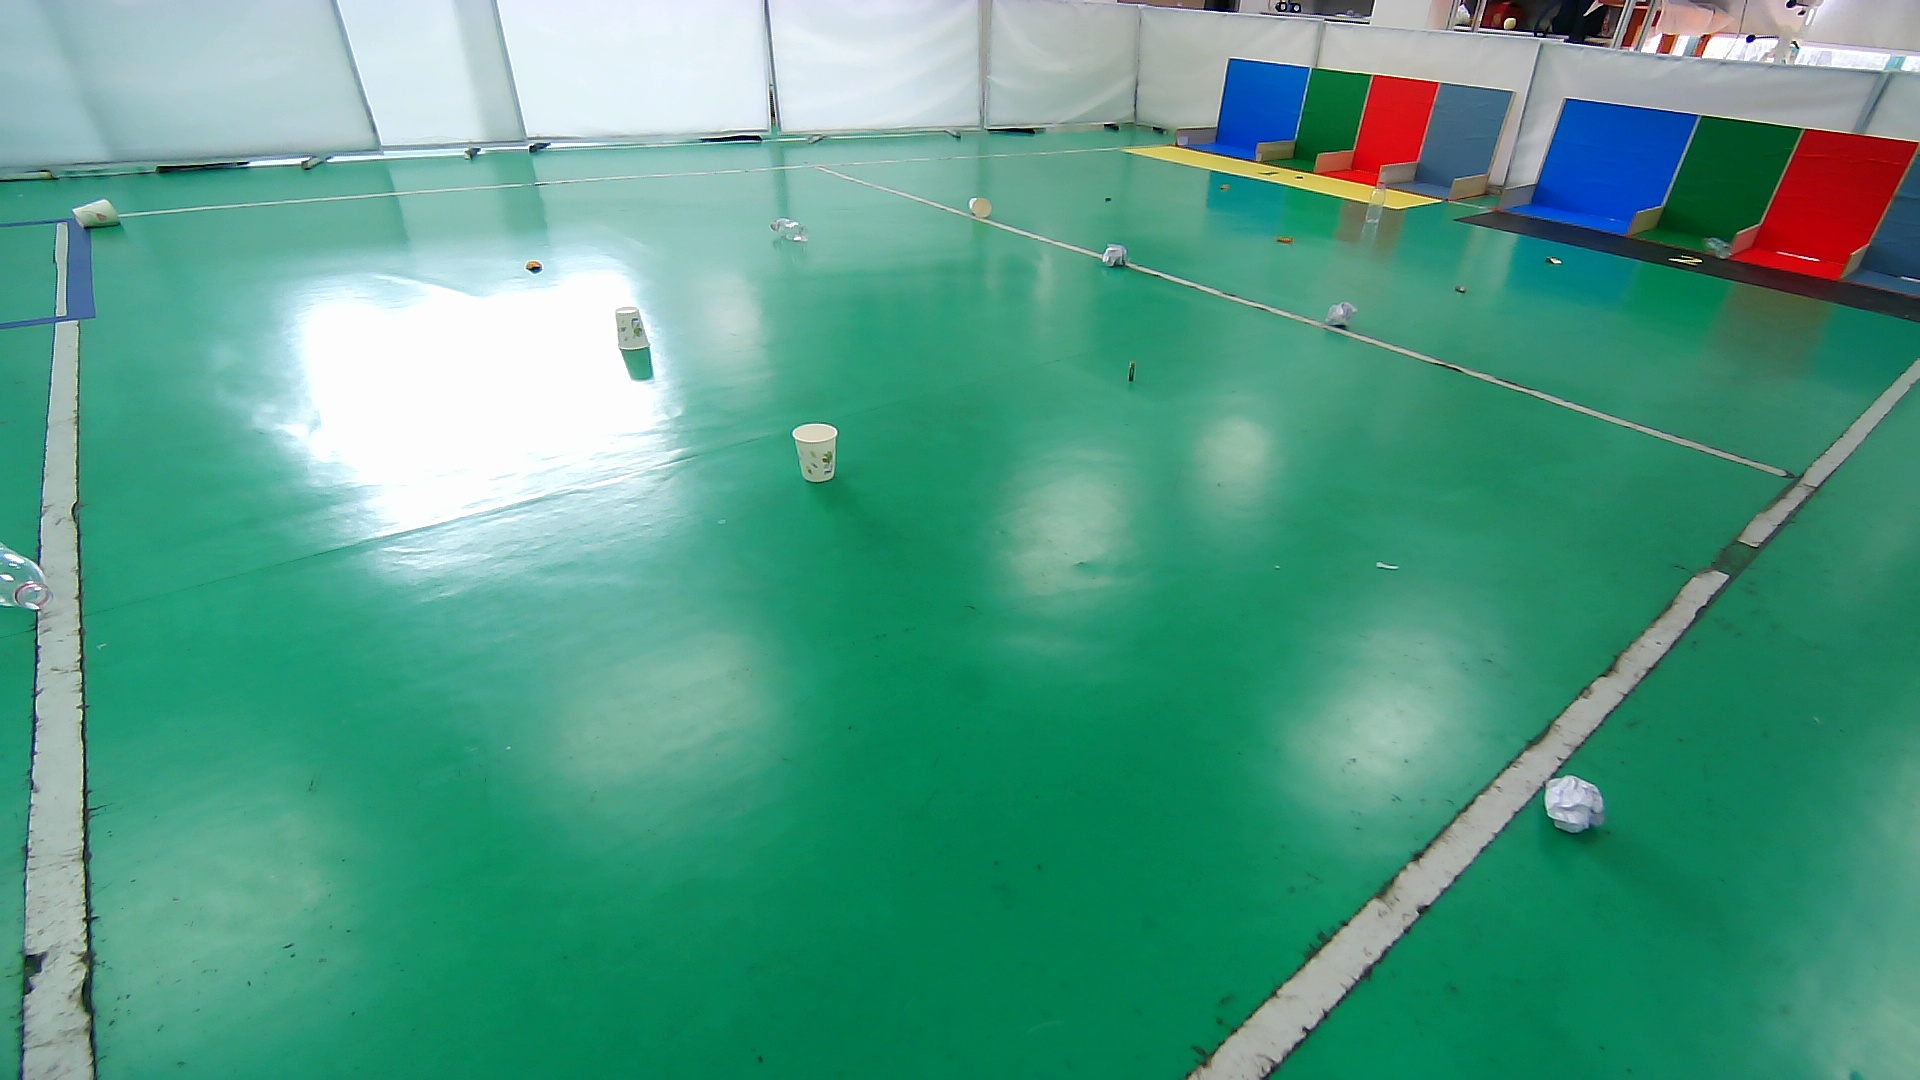battery: (1120, 352, 1145, 392), (1447, 276, 1476, 303), (1095, 189, 1124, 208)
bottle: (1, 539, 57, 617), (766, 216, 815, 247), (1698, 233, 1733, 260)
orangepeel: (1539, 251, 1571, 273), (520, 256, 550, 278), (1271, 229, 1299, 248), (1212, 177, 1240, 195)
papercup: (789, 419, 843, 487), (70, 195, 125, 233), (612, 303, 654, 353), (963, 193, 997, 222)
spitball: (1542, 769, 1606, 836), (1323, 297, 1360, 330), (1097, 241, 1130, 269)
